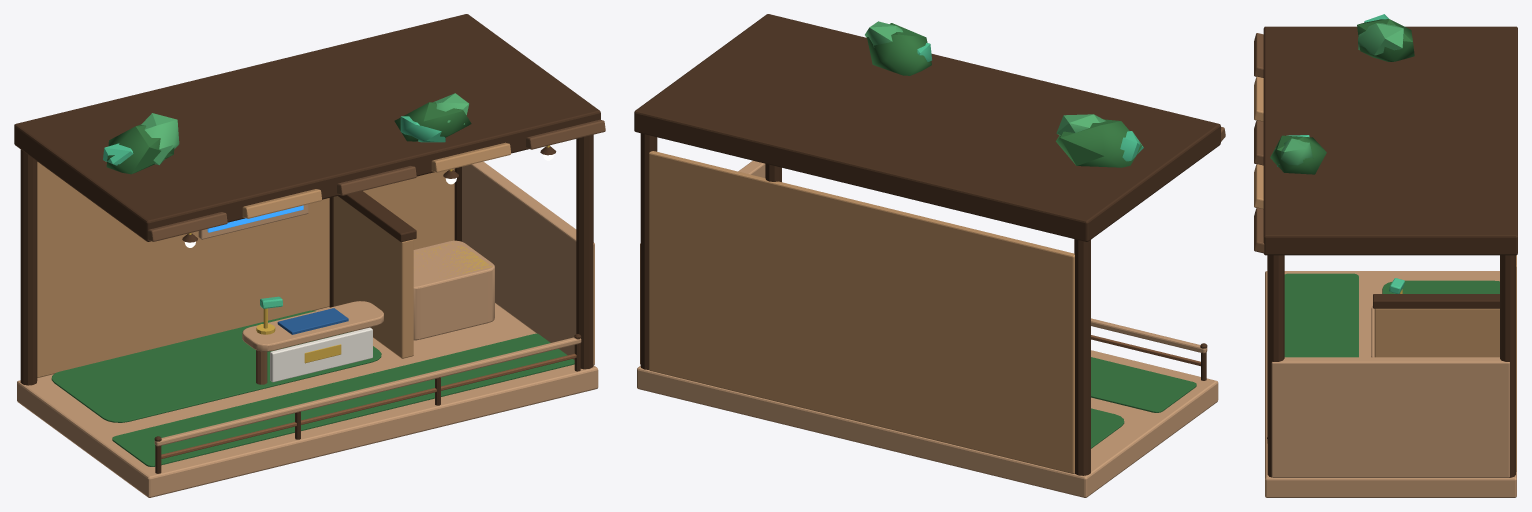
The model's file is WallHabitat_ManagerLookout_Compact.fbx.
3 renders of one model, left to right at view 1: azimuth 30°, elevation 25°; view 2: azimuth 150°, elevation 25°; view 3: azimuth 270°, elevation 25°, orthographic. The views are drawn at different scales.
Visible parts, largest first — view 1: WallHabitat_ManagerLookout_Compact_Structure, WallHabitat_ManagerLookout_Compact_Accents; view 2: WallHabitat_ManagerLookout_Compact_Structure; view 3: WallHabitat_ManagerLookout_Compact_Structure.
Part boxes in pixels (bbox=[...]): WallHabitat_ManagerLookout_Compact_Structure: bbox=[14, 14, 605, 497]; WallHabitat_ManagerLookout_Compact_Accents: bbox=[184, 154, 553, 363]; WallHabitat_ManagerLookout_Compact_Structure: bbox=[634, 14, 1225, 497]; WallHabitat_ManagerLookout_Compact_Structure: bbox=[1254, 14, 1517, 497].
Bounding box in the file's own units: 44.4 × 29.36 × 23.57.
